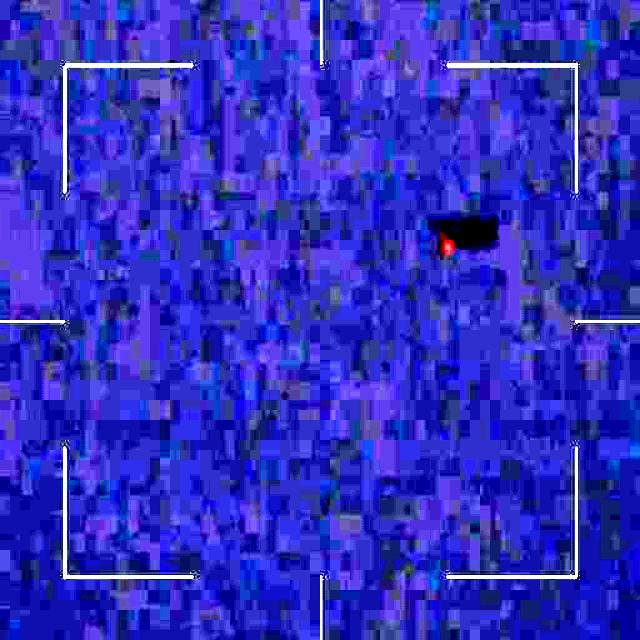bird: (436, 225, 464, 264)
